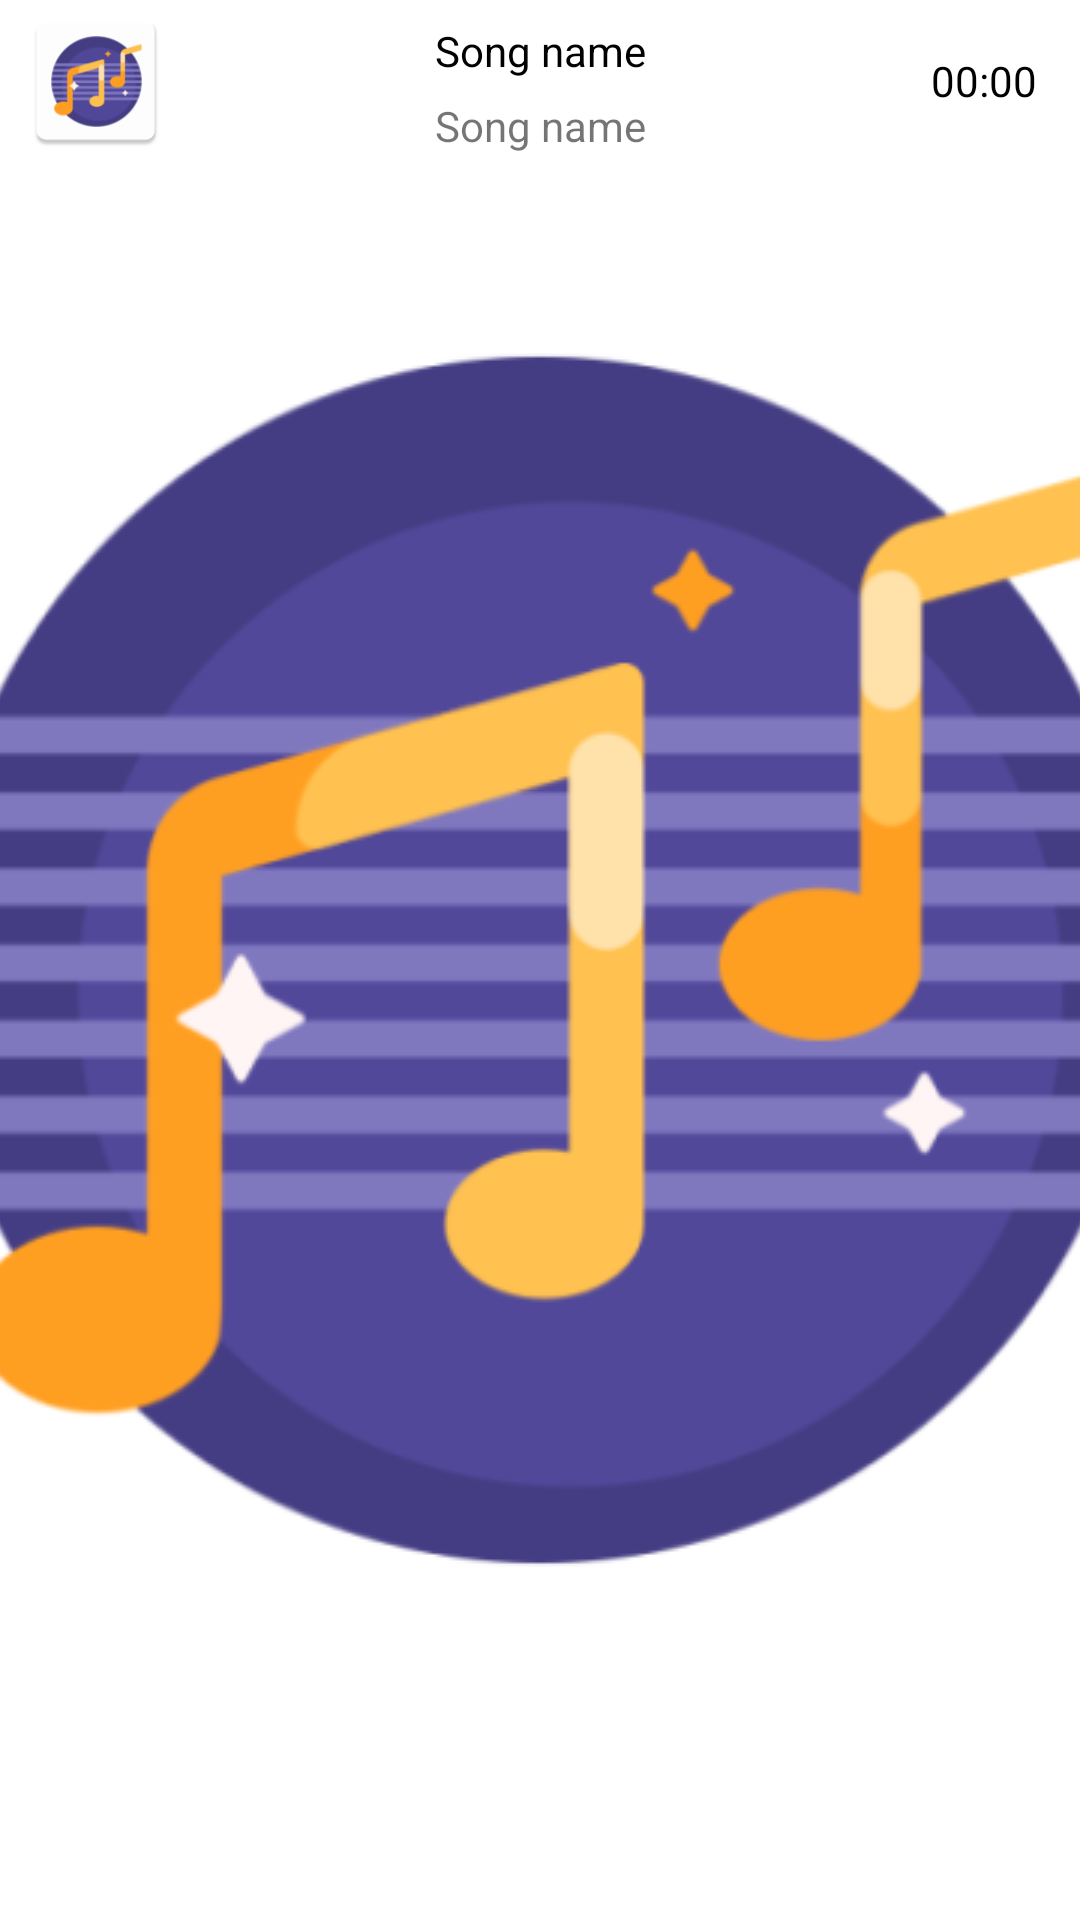

Locate icon controls on the screen. Image size 1080×1920, boxes as (x1, y1, x2, y2).
music player: (37, 32, 156, 144)
